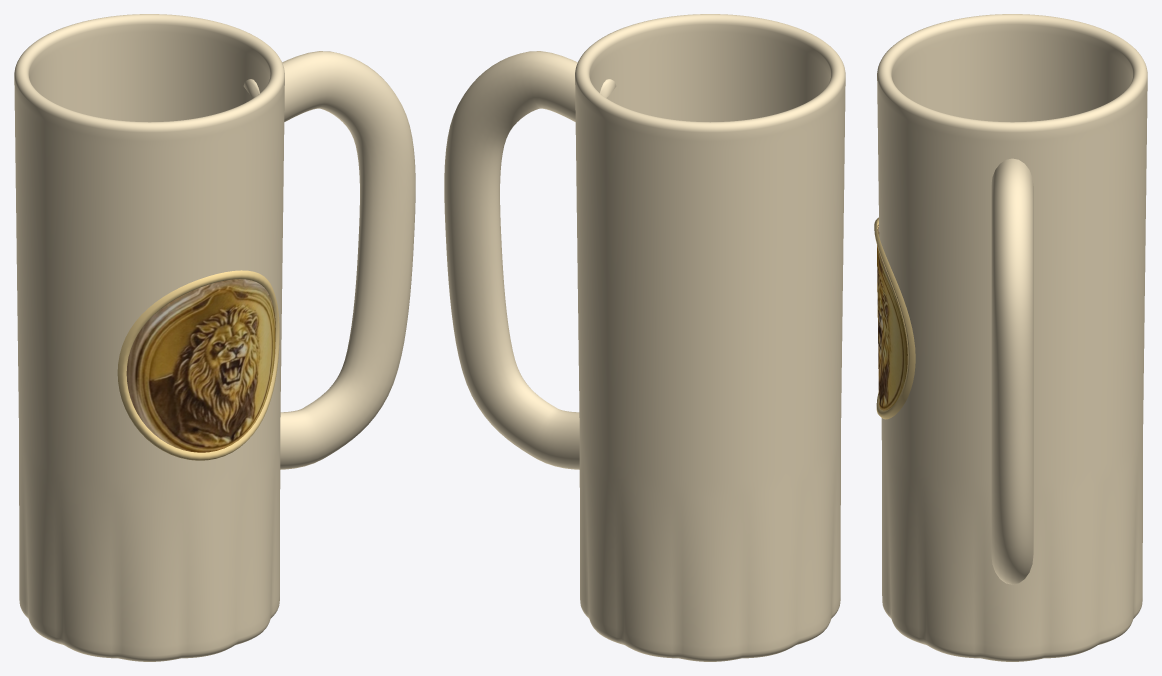
Rendered from lion-c.glb.
3 views of the same model, side by side, from view 1: azimuth 30°, elevation 25°; view 2: azimuth 150°, elevation 25°; view 3: azimuth 270°, elevation 25° (orthographic).
Visible parts, largest first — view 1: lion_Glass, lion_Handle, lion_Medallion, lion_Bezel; view 2: lion_Glass, lion_Handle; view 3: lion_Glass, lion_Handle, lion_Medallion, lion_Bezel.
Part boxes in pixels (left/top/right/bottom): lion_Glass: left=14, top=14, right=284, bottom=661; lion_Handle: left=243, top=51, right=415, bottom=469; lion_Medallion: left=126, top=279, right=275, bottom=452; lion_Bezel: left=117, top=270, right=279, bottom=460; lion_Glass: left=575, top=14, right=845, bottom=661; lion_Handle: left=444, top=51, right=616, bottom=469; lion_Glass: left=877, top=14, right=1147, bottom=661; lion_Handle: left=991, top=158, right=1033, bottom=584; lion_Medallion: left=877, top=224, right=907, bottom=410; lion_Bezel: left=874, top=217, right=915, bottom=419.
Bounding box in the file's own units: 0.1252 × 0.17 × 0.0778.
3 materials, 1 textured.
